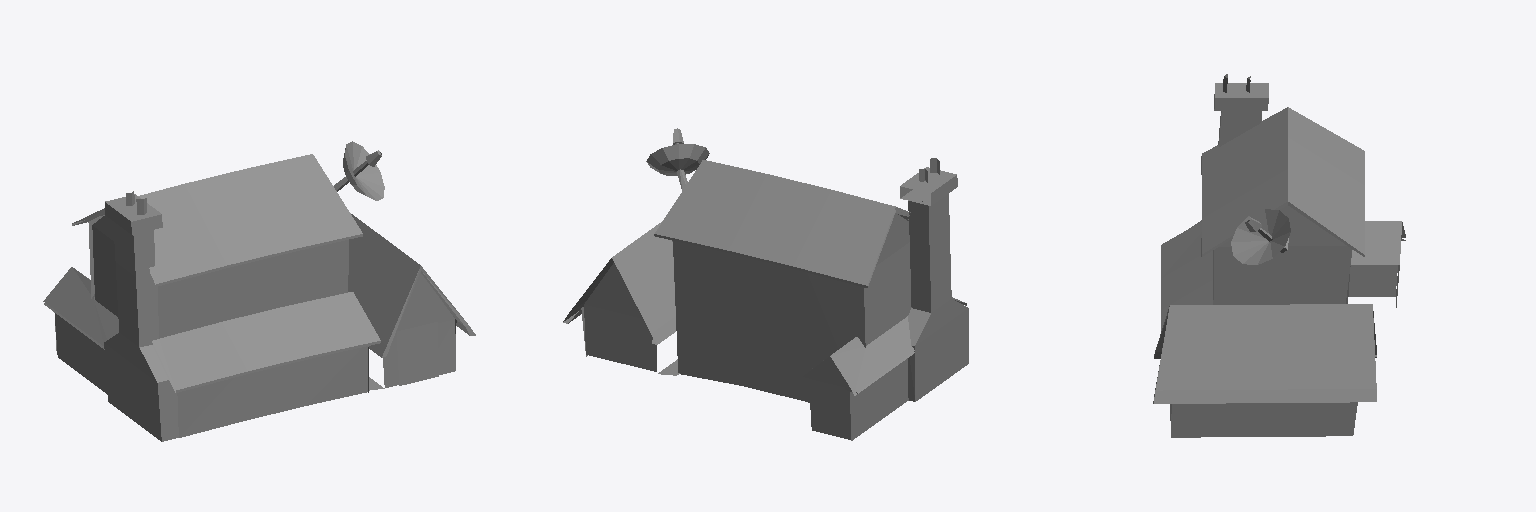
The model's file is TimmyH_Tex2.obj.
3 views of the same model, side by side, from view 1: azimuth 30°, elevation 25°; view 2: azimuth 150°, elevation 25°; view 3: azimuth 270°, elevation 25° (orthographic).
Parts seen in each view (by area): view 1: Techo1, techo2, FrontUpperWall, FrontLowerWall, mesh_0_209_nr_noesis_meshnode_0089, mesh_0_177_nr_noesis_meshnode_0077, mesh_0_156_nr_noesis_meshnode_0069, GarageFrontwall, GarageDoor, LowerLateral, mesh_0_58_nr_noesis_meshnode_0023, LAt2 (+1 smaller); view 2: UpperWall, Techo1, mesh_0_209_nr_noesis_meshnode_0089, mesh_0_177_nr_noesis_meshnode_0077, GarageWall, LAt2, mesh_0_156_nr_noesis_meshnode_0069, LowerLateral, GarageWall001, mesh_0_58_nr_noesis_meshnode_0023, Triangle, mesh_0_147_nr_noesis_meshnode_0064; view 3: mesh_0_147_nr_noesis_meshnode_0064, Techo1, mesh_0_149_nr_noesis_meshnode_0065, techo2, mesh_0_58_nr_noesis_meshnode_0023, mesh_0_177_nr_noesis_meshnode_0077, mesh_0_67_nr_noesis_meshnode_0030, LowerLateral.
Boxes of the visible parts, x1=… form: Techo1: x1=72, y1=154, x2=362, y2=286; techo2: x1=152, y1=292, x2=380, y2=392; FrontUpperWall: x1=158, y1=240, x2=348, y2=338; FrontLowerWall: x1=177, y1=346, x2=368, y2=437; mesh_0_209_nr_noesis_meshnode_0089: x1=43, y1=212, x2=420, y2=357; mesh_0_177_nr_noesis_meshnode_0077: x1=105, y1=194, x2=178, y2=441; mesh_0_156_nr_noesis_meshnode_0069: x1=104, y1=333, x2=161, y2=441; GarageFrontwall: x1=383, y1=272, x2=455, y2=387; GarageDoor: x1=397, y1=322, x2=438, y2=385; LowerLateral: x1=55, y1=313, x2=107, y2=394; mesh_0_58_nr_noesis_meshnode_0023: x1=126, y1=141, x2=384, y2=214; LAt2: x1=92, y1=215, x2=117, y2=316; UpperWall: x1=673, y1=241, x2=865, y2=402; Techo1: x1=654, y1=160, x2=910, y2=287; mesh_0_209_nr_noesis_meshnode_0089: x1=612, y1=210, x2=914, y2=393; mesh_0_177_nr_noesis_meshnode_0077: x1=900, y1=167, x2=957, y2=401; GarageWall: x1=584, y1=263, x2=656, y2=371; LAt2: x1=864, y1=213, x2=911, y2=345; mesh_0_156_nr_noesis_meshnode_0069: x1=915, y1=299, x2=968, y2=401; LowerLateral: x1=850, y1=358, x2=908, y2=440; GarageWall001: x1=809, y1=379, x2=850, y2=439; mesh_0_58_nr_noesis_meshnode_0023: x1=646, y1=128, x2=939, y2=190; Triangle: x1=803, y1=356, x2=857, y2=393; mesh_0_147_nr_noesis_meshnode_0064: x1=563, y1=258, x2=656, y2=344; mesh_0_147_nr_noesis_meshnode_0064: x1=1153, y1=304, x2=1376, y2=403; Techo1: x1=1201, y1=107, x2=1364, y2=256; mesh_0_149_nr_noesis_meshnode_0065: x1=1171, y1=205, x2=1357, y2=437; techo2: x1=1161, y1=222, x2=1212, y2=330; mesh_0_58_nr_noesis_meshnode_0023: x1=1223, y1=74, x2=1290, y2=264; mesh_0_177_nr_noesis_meshnode_0077: x1=1184, y1=83, x2=1268, y2=231; mesh_0_67_nr_noesis_meshnode_0030: x1=1351, y1=221, x2=1401, y2=264; LowerLateral: x1=1349, y1=265, x2=1397, y2=296.
Size of the model in its own units: 4.18 by 2.83 by 2.91.